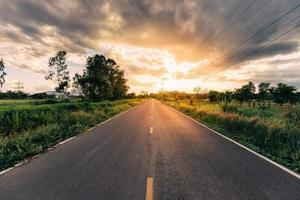straightRoad: (115, 104, 220, 200)
